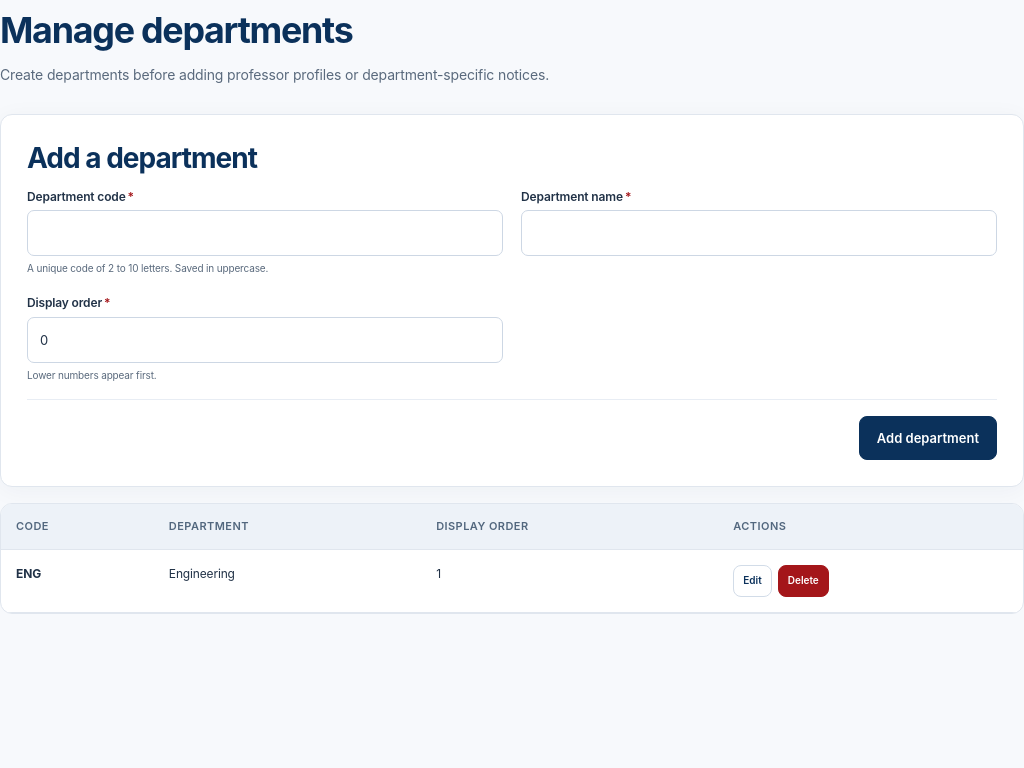
Test: department management › requires delete confirmation and keeps an in-use department when the server refuses deletion
Click the button with aria-label "Delete ENG".
click(803, 581)  # box [778,565,829,597]
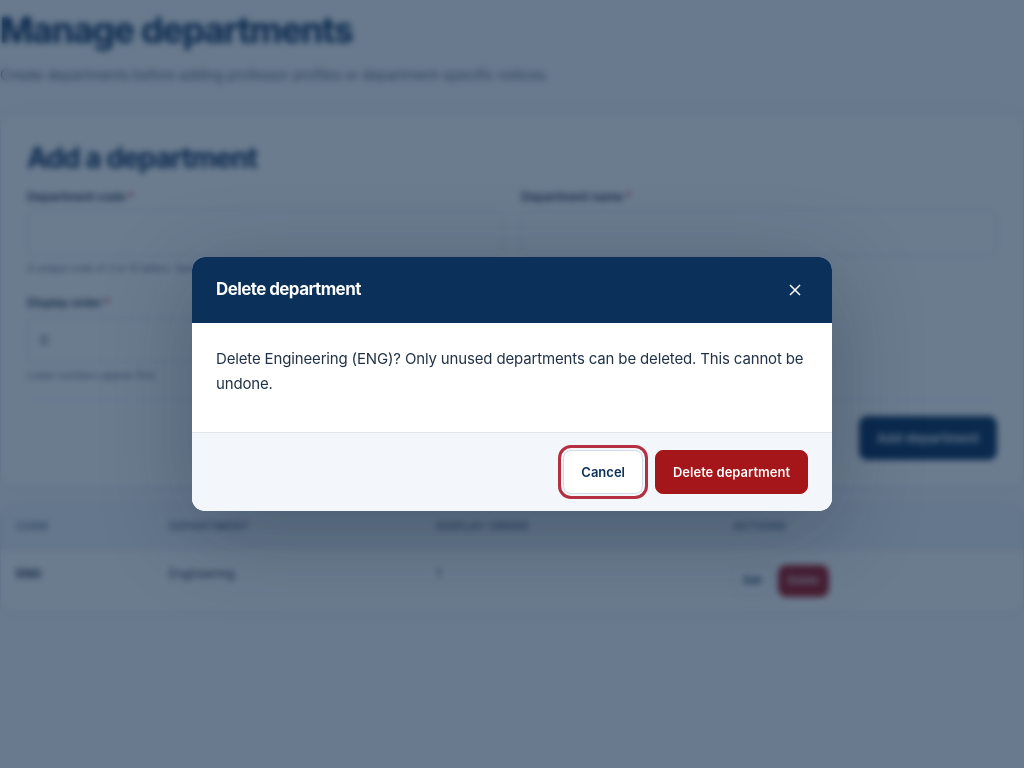
Click the button "Delete department".
click(732, 472)  # box [655,450,808,494]
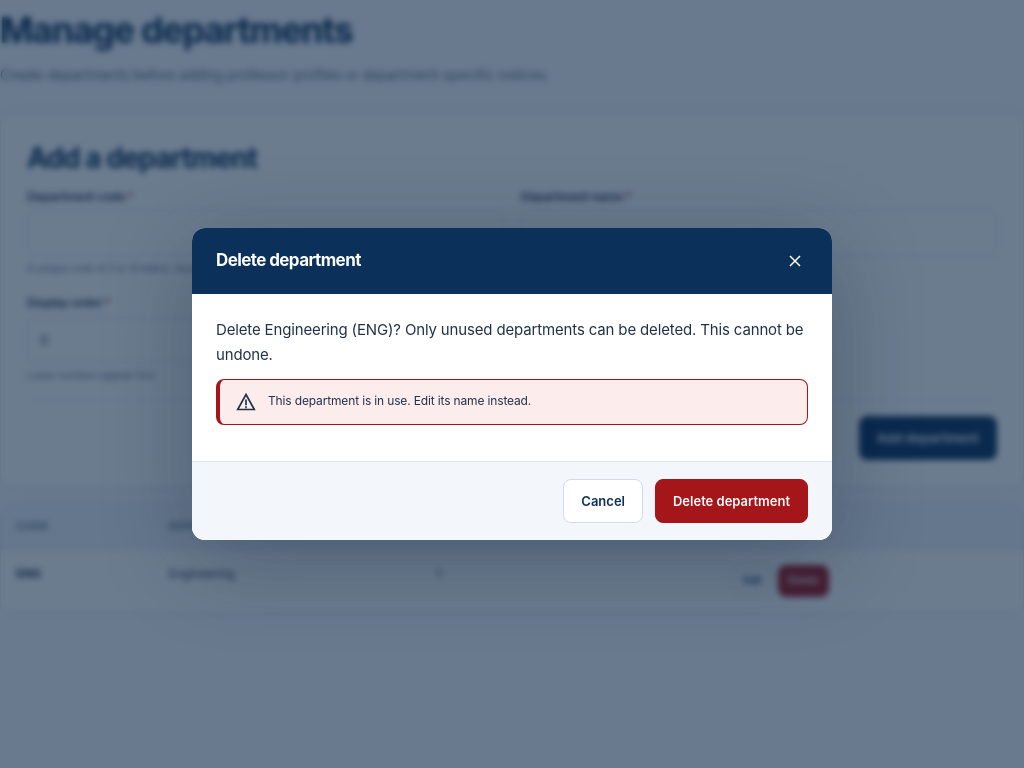
Expected: the button with aria-label "Edit ENG" is shown, [733,565,772,597]
Now the text "This department is in use. Edit its name instead." is shown, box [268,393,531,408]
